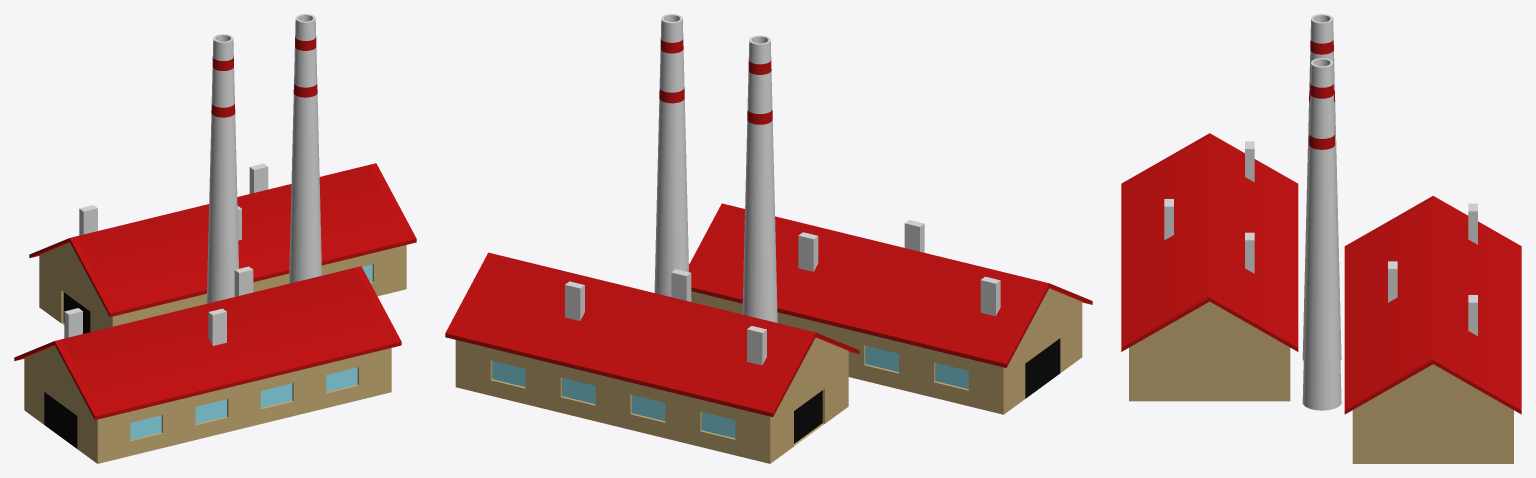
Rendered from Factory.obj.
3 renders of one model, left to right at view 1: azimuth 30°, elevation 25°; view 2: azimuth 150°, elevation 25°; view 3: azimuth 270°, elevation 25°, orthographic. The views are drawn at different scales.
Visible parts, largest first — view 1: Object008, Object007, Box20187, Box20190, Cylinder004, Cylinder003, Object005, Box20193, Box20189, Box20191, Box20188, Box20194; view 2: Object007, Object008, Box20190, Box20187, Cylinder003, Cylinder004, Object006, Object005, Box20191, Box20194, Box20189, Box20188; view 3: Object008, Object007, Box20187, Box20190, Cylinder004, Cylinder003.
Boxes of the visible parts, x1,y1,x2,y2 form: Object008: (14, 266, 401, 419); Object007: (29, 163, 416, 316); Box20187: (24, 345, 391, 463); Box20190: (39, 242, 406, 333); Cylinder004: (289, 14, 321, 283); Cylinder003: (206, 34, 238, 303); Object005: (130, 367, 357, 439); Box20193: (208, 308, 226, 345); Box20189: (249, 163, 268, 193); Box20191: (234, 266, 253, 296); Box20188: (79, 205, 97, 235); Box20194: (64, 308, 82, 338); Object007: (445, 252, 859, 416); Object008: (689, 203, 1092, 367); Box20190: (455, 337, 848, 463); Box20187: (691, 288, 1082, 414); Cylinder003: (742, 35, 777, 322); Cylinder004: (654, 14, 688, 296); Object006: (492, 361, 735, 438); Object005: (824, 335, 968, 388); Box20191: (798, 232, 818, 271); Box20194: (980, 276, 1000, 316); Box20189: (565, 281, 584, 320); Box20188: (747, 326, 766, 365); Object008: (1121, 133, 1298, 351); Object007: (1344, 196, 1521, 414); Box20187: (1129, 301, 1290, 401); Box20190: (1352, 364, 1513, 463); Cylinder004: (1302, 58, 1341, 410); Cylinder003: (1302, 14, 1341, 360).
Bounding box in the file's own units: 4778 × 3333 × 3564.
